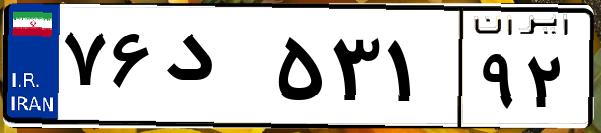1: (385, 28, 445, 110)
2: (525, 38, 570, 115)
3: (330, 28, 385, 110)
5: (270, 28, 330, 110)
6: (110, 28, 158, 98)
7: (57, 26, 110, 100)
9: (475, 38, 525, 113)
د: (158, 20, 270, 120)
